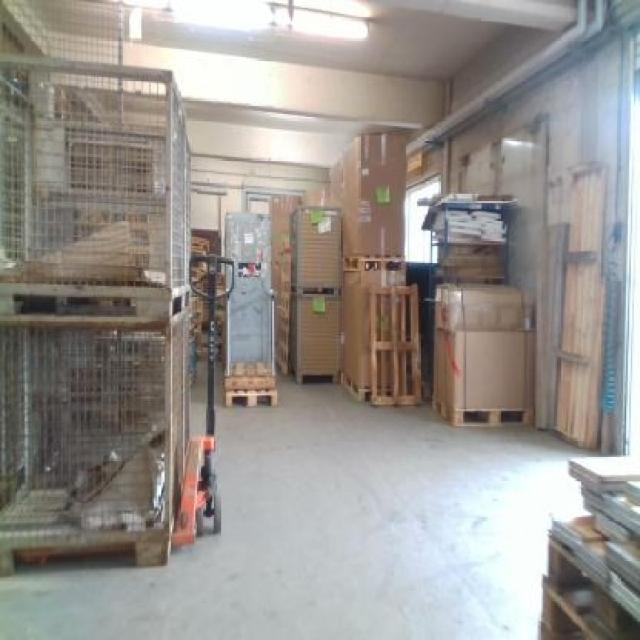pallets: (0, 55, 186, 571), (538, 455, 637, 637), (432, 283, 526, 423)
